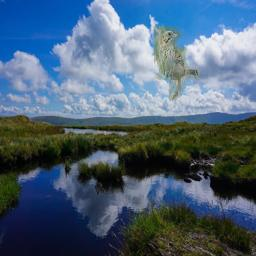Sparrow: (154, 27, 200, 102)
